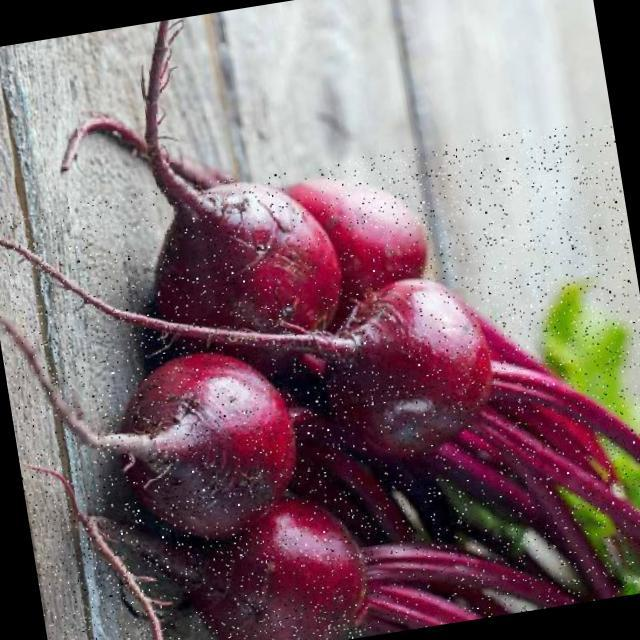Beetroot: (0, 117, 640, 640), (0, 238, 320, 562), (299, 245, 518, 478), (68, 490, 381, 640), (124, 168, 346, 378)
